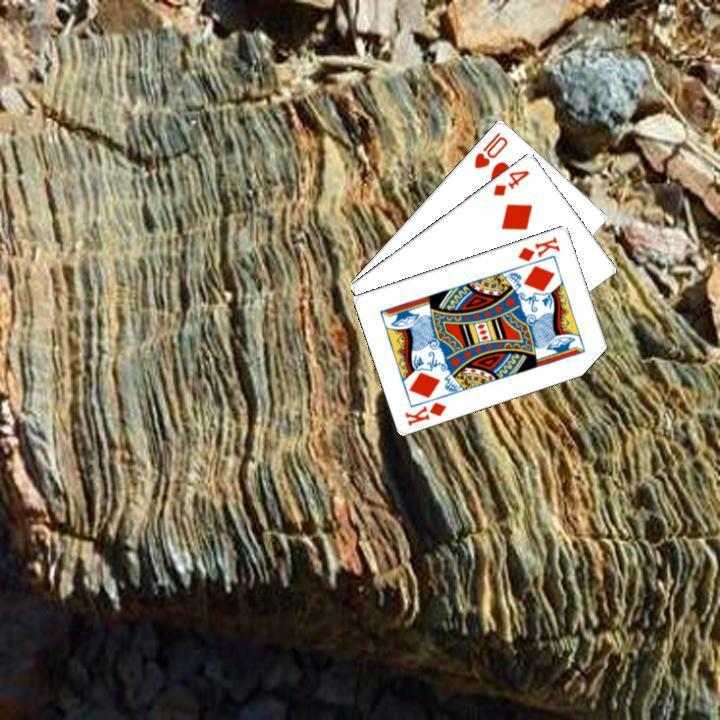10: (470, 127, 510, 170)
4: (489, 165, 532, 198)
K: (513, 232, 562, 263), (401, 397, 448, 428)
